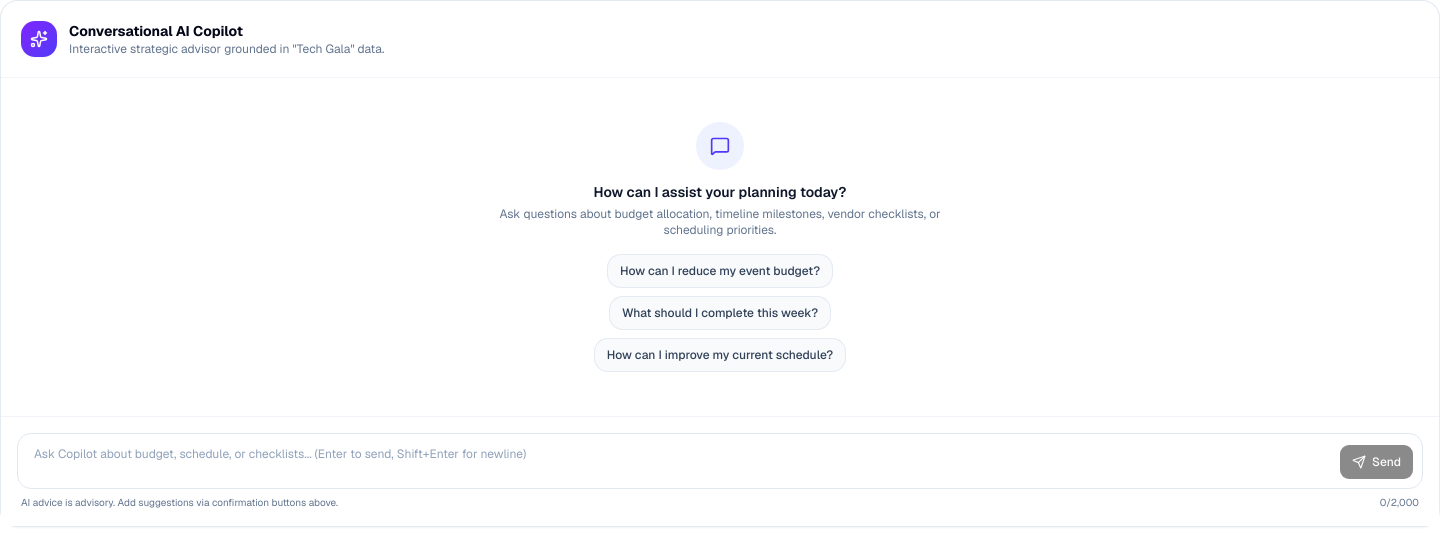
Scenario: CopilotChatCard Component › Error Handling & Retry Mechanism › displays error banner and retry button when askCopilotAction returns an error
Type "Fast question" into the text box named "Ask the Copilot a planning question" at coordinates (678, 461), box [26, 442, 1331, 480]
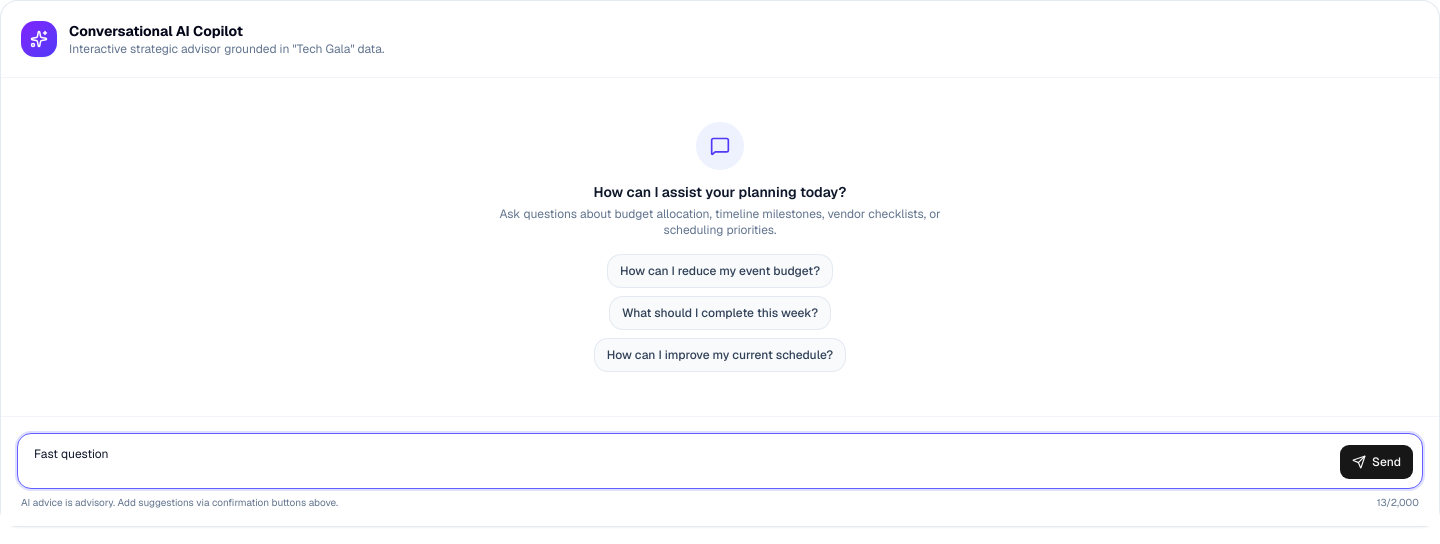
Click the button "Send" at coordinates (1376, 462), box [1339, 444, 1414, 480]
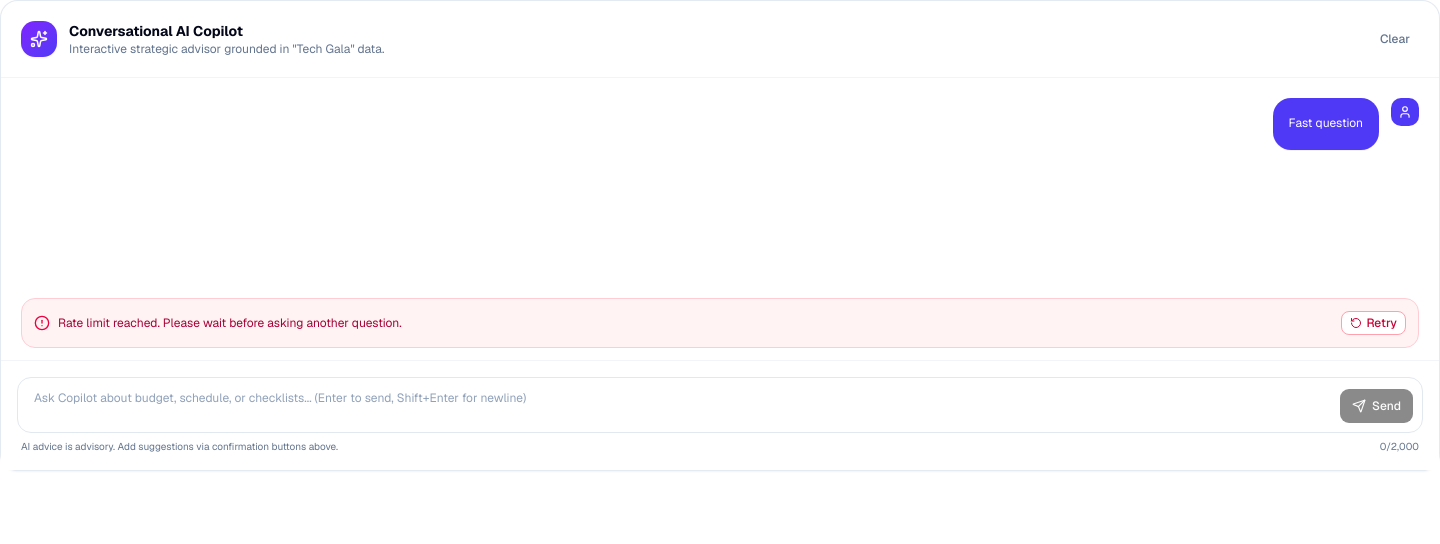
Expected: the text "Rate limit reached. Please wait before asking another question." is shown, [58, 315, 402, 331]
Expected: the button "Retry" is shown
Click the button "Retry" at coordinates (1374, 323), box [1341, 311, 1406, 335]
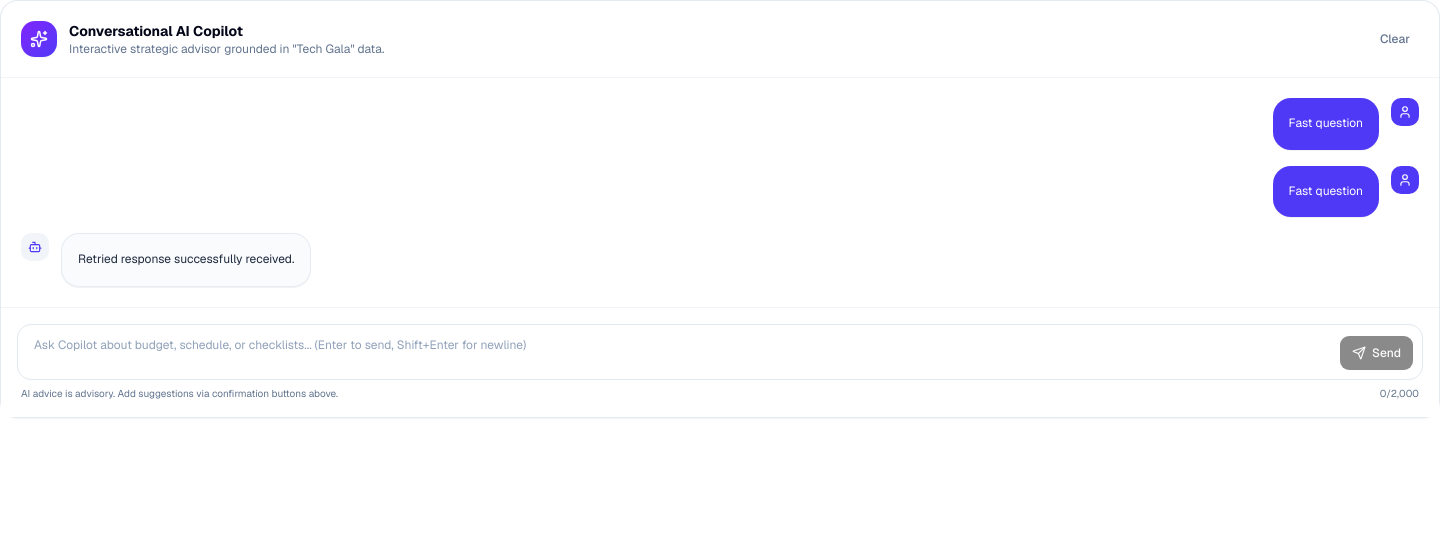
Expected: the text "Retried response successfully received." is shown, [78, 250, 294, 270]
